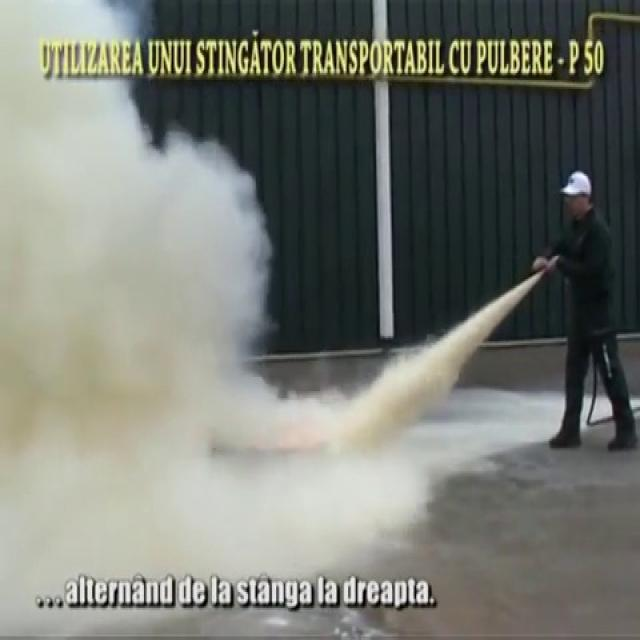Fire: (333, 232, 540, 458)
Smoke: (0, 0, 345, 630)
